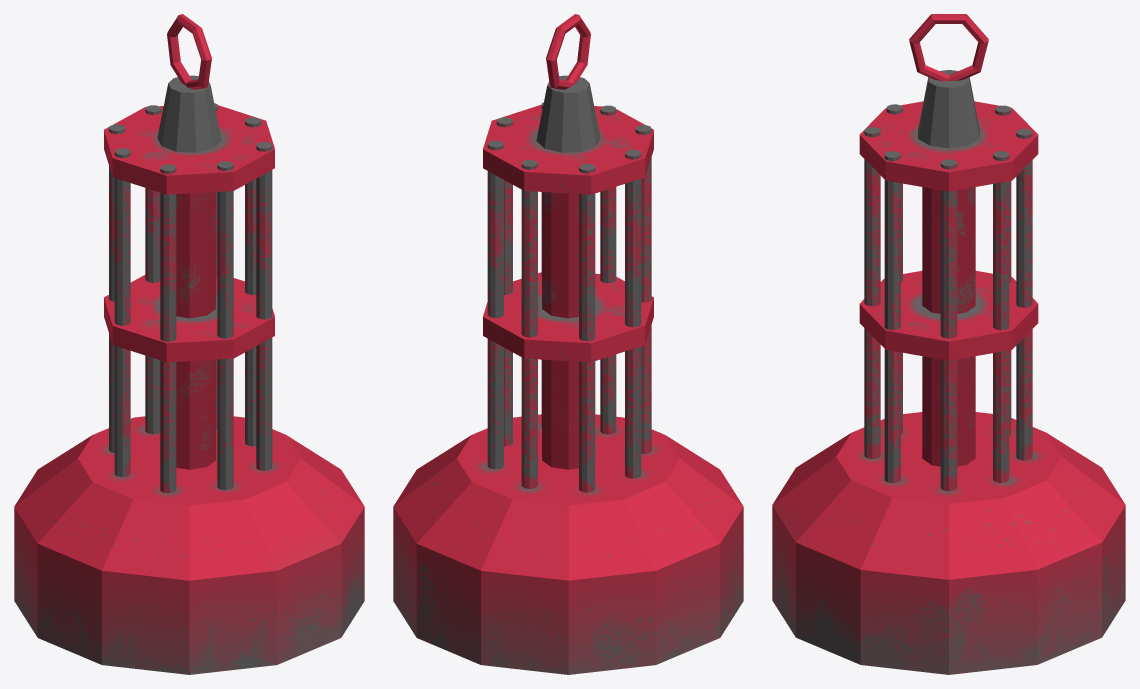
The model's file is bouy.fbx.
3 renders of one model, left to right at view 1: azimuth 30°, elevation 25°; view 2: azimuth 150°, elevation 25°; view 3: azimuth 270°, elevation 25°, orthographic.
Parts seen in each view (by area): view 1: polySurface1; view 2: polySurface1; view 3: polySurface1.
Part boxes in pixels (bbox=[...]): polySurface1: bbox=[14, 14, 364, 674]; polySurface1: bbox=[393, 14, 743, 674]; polySurface1: bbox=[772, 14, 1125, 674].
Size of the model in its own units: 2.04 by 3.83 by 2.04.
